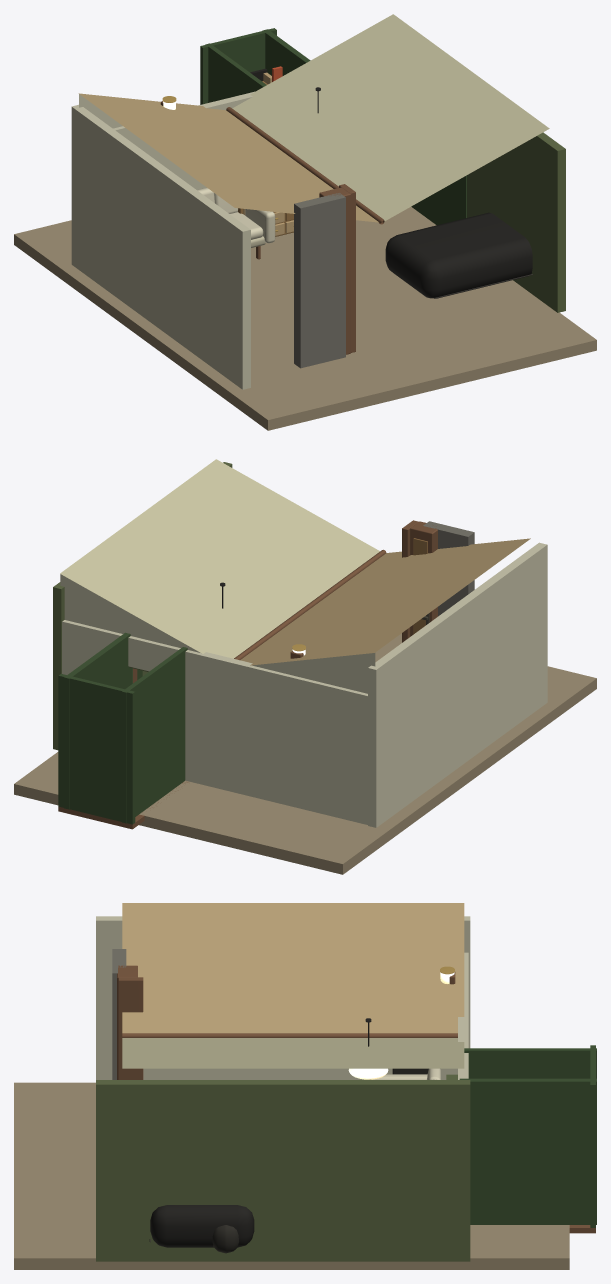
Rendered from scene-3-gpt6.glb.
The picture shows the model from 3 angles, top to bottom: view 1: azimuth 30°, elevation 25°; view 2: azimuth 150°, elevation 25°; view 3: azimuth 270°, elevation 25°; orthographic projection. The views are drawn at different scales.
Parts seen in each view (by area): view 1: stone floor, right ceiling pitch, left side wall, left ceiling pitch, right side wall, near black sofa seat, entry gray wall, deep room back wall, deep room green left wall, right decorative panel, back wall left, deep room red right wall (+4 smaller); view 2: right ceiling pitch, left side wall, back wall left, stone floor, left ceiling pitch, deep room back wall, deep room green left wall, right pitched upper wall, deep room red right wall, left pitched upper wall, back wall right, right side wall (+4 smaller); view 3: right side wall, left ceiling pitch, stone floor, deep room red right wall, right ceiling pitch, left side wall, deep room green left wall, near black sofa seat, ridge timber, door jamb right edge, deep room back wall, entry gray wall (+2 smaller).
Boxes of the visible parts, x1,y1,x2,y2 form: stone floor: (14, 207, 596, 430); right ceiling pitch: (232, 14, 549, 220); left side wall: (71, 104, 250, 389); left ceiling pitch: (78, 93, 378, 222); right side wall: (467, 132, 565, 312); near black sofa seat: (385, 212, 532, 298); entry gray wall: (294, 193, 345, 368); deep room back wall: (200, 28, 276, 104); deep room green left wall: (205, 43, 266, 102); right decorative panel: (411, 175, 466, 225); back wall left: (113, 91, 254, 189); deep room red right wall: (262, 29, 310, 75); right ceiling pitch: (60, 459, 379, 658); left side wall: (368, 542, 547, 827); back wall left: (185, 650, 367, 824); stone floor: (14, 633, 596, 874); left ceiling pitch: (240, 538, 530, 665); deep room back wall: (58, 673, 135, 824); deep room green left wall: (122, 647, 187, 823); right pitched upper wall: (60, 574, 200, 652); deep room red right wall: (64, 632, 132, 809); left pitched upper wall: (252, 653, 375, 693); back wall right: (62, 620, 122, 674); right side wall: (53, 462, 232, 750); right side wall: (96, 1080, 470, 1261); left ceiling pitch: (122, 903, 464, 1033); stone floor: (14, 1082, 569, 1269); deep room red right wall: (459, 1078, 596, 1224); right ceiling pitch: (122, 1038, 464, 1068); left side wall: (96, 916, 470, 1079); deep room green left wall: (464, 1048, 596, 1078); near black sofa seat: (150, 1205, 254, 1247); ridge timber: (122, 1033, 457, 1037); door jamb right edge: (118, 977, 143, 1079); deep room back wall: (590, 1045, 595, 1227); entry gray wall: (112, 949, 126, 1079).
Size of the model in its own units: 7.64 by 3.82 by 9.96.
